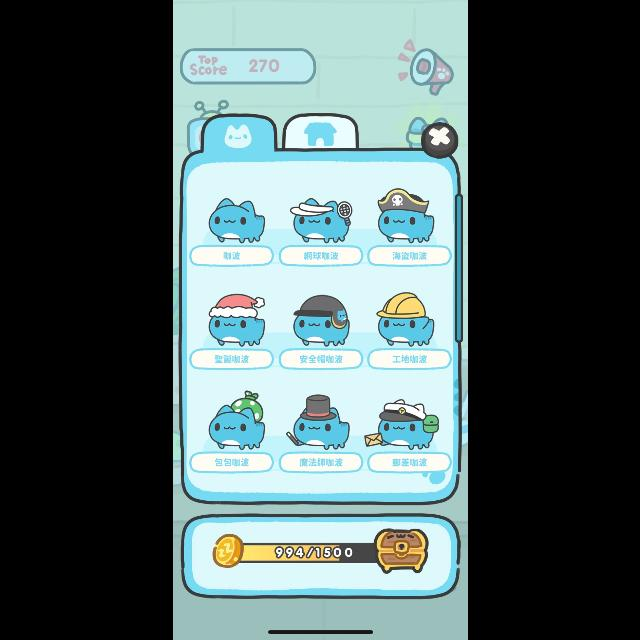capoo: (361, 391, 441, 451), (198, 388, 272, 450), (284, 391, 354, 454), (202, 190, 270, 246), (288, 292, 354, 348), (289, 192, 356, 246), (204, 296, 272, 348), (376, 192, 440, 242), (378, 291, 437, 345)
